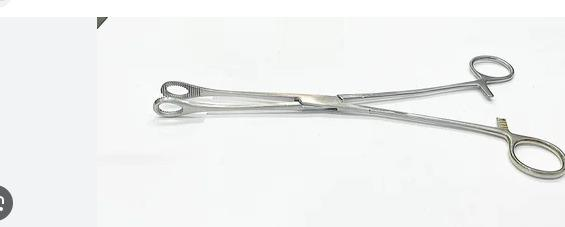Sponge Holding Forceps: (152, 55, 565, 183)
